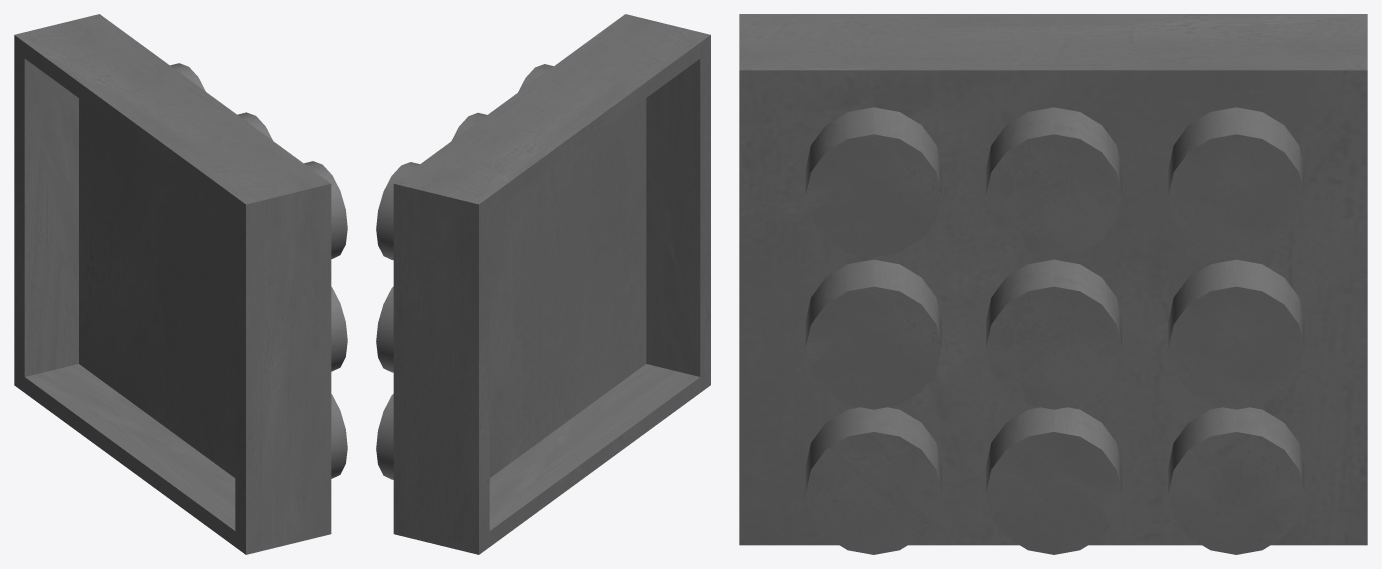
The model's file is lego piece.glb.
The picture shows the model from 3 angles, left to right: view 1: azimuth 30°, elevation 25°; view 2: azimuth 150°, elevation 25°; view 3: azimuth 270°, elevation 25°; orthographic projection. The views are drawn at different scales.
Parts seen in each view (by area): view 1: Cube, Top_Cylinder_low_TopCylinder_low_0.015, Top_Cylinder_low_TopCylinder_low_0.012, Top_Cylinder_low_TopCylinder_low_0.009; view 2: Cube, Top_Cylinder_low_TopCylinder_low_0.017, Top_Cylinder_low_TopCylinder_low_0.011, Top_Cylinder_low_TopCylinder_low_0.014; view 3: Cube, Top_Cylinder_low_TopCylinder_low_0.011, Top_Cylinder_low_TopCylinder_low_0.017, Top_Cylinder_low_TopCylinder_low_0.009, Top_Cylinder_low_TopCylinder_low_0.015, Top_Cylinder_low_TopCylinder_low_0.016, Top_Cylinder_low_TopCylinder_low_0.010, Top_Cylinder_low_TopCylinder_low_0.012, Top_Cylinder_low_TopCylinder_low_0.014, Top_Cylinder_low_TopCylinder_low_0.013.
Part boxes in pixels (x1,y1,x2,y2): Cube: (14,14,331,554); Top_Cylinder_low_TopCylinder_low_0.015: (304,161,347,259); Top_Cylinder_low_TopCylinder_low_0.012: (331,394,347,478); Top_Cylinder_low_TopCylinder_low_0.009: (331,287,347,371); Cube: (393,14,710,554); Top_Cylinder_low_TopCylinder_low_0.017: (376,162,419,260); Top_Cylinder_low_TopCylinder_low_0.011: (376,286,393,372); Top_Cylinder_low_TopCylinder_low_0.014: (376,394,393,479); Cube: (739,14,1367,545); Top_Cylinder_low_TopCylinder_low_0.011: (1168,259,1304,409); Top_Cylinder_low_TopCylinder_low_0.017: (1168,107,1304,257); Top_Cylinder_low_TopCylinder_low_0.009: (805,259,941,409); Top_Cylinder_low_TopCylinder_low_0.015: (805,107,941,257); Top_Cylinder_low_TopCylinder_low_0.016: (986,107,1121,257); Top_Cylinder_low_TopCylinder_low_0.010: (986,259,1121,409); Top_Cylinder_low_TopCylinder_low_0.012: (805,407,941,554); Top_Cylinder_low_TopCylinder_low_0.014: (1168,407,1304,554); Top_Cylinder_low_TopCylinder_low_0.013: (986,407,1121,554).
Bounding box in the file's own units: 1 × 2.65 × 3.18.
Materials: 1 (1 with a texture image).
